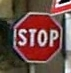stop: (12, 10, 62, 64)
